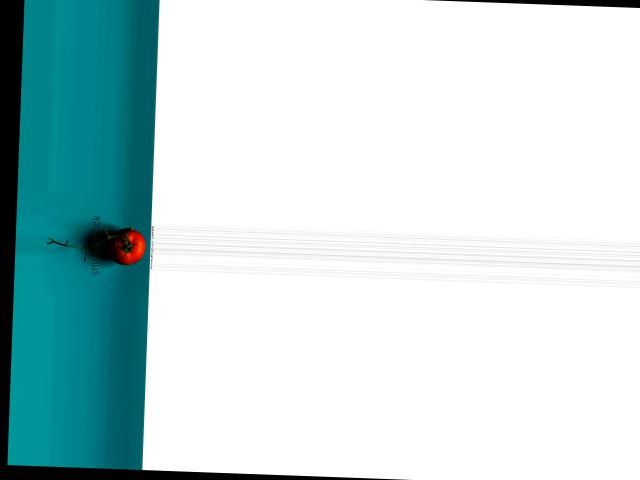tomato: (107, 226, 145, 265)
